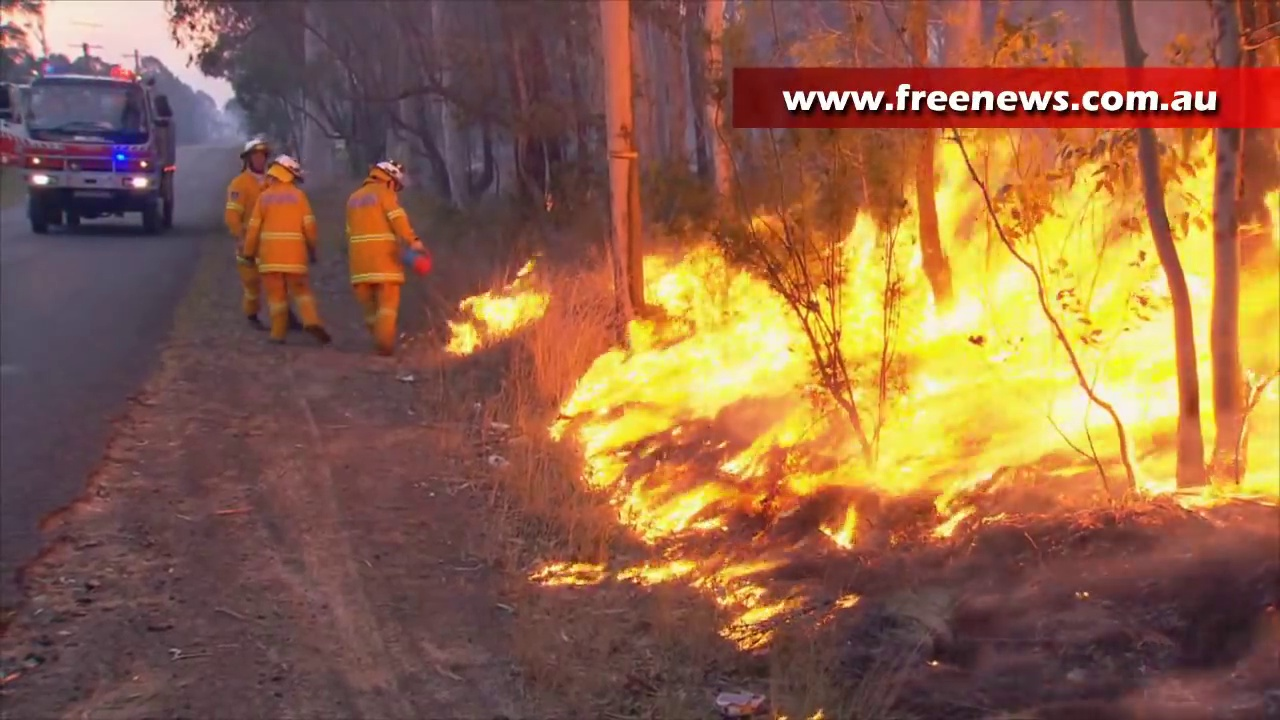fire: (550, 131, 1280, 545), (542, 558, 780, 647), (447, 282, 547, 353)
